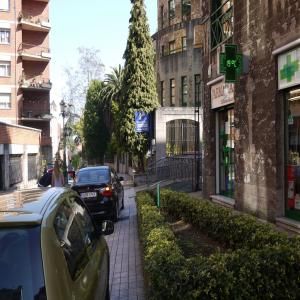Vehicle-registration-plate: (81, 192, 98, 199)
